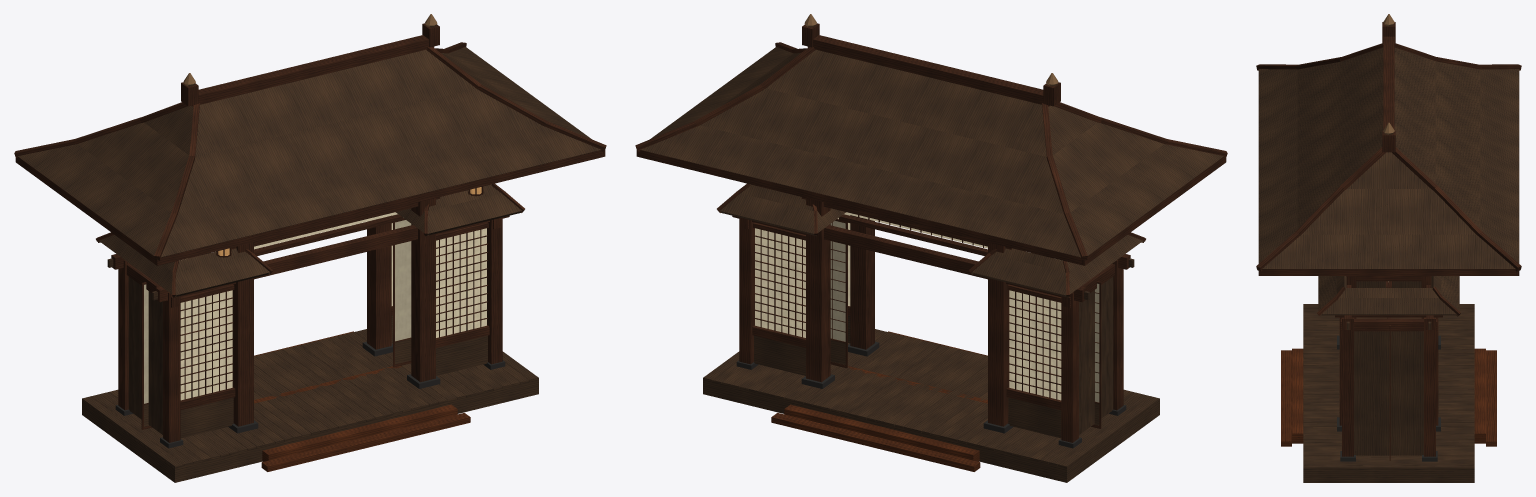
File: entrance_gateway.glb
3 views of the same model, side by side, from view 1: azimuth 30°, elevation 25°; view 2: azimuth 150°, elevation 25°; view 3: azimuth 270°, elevation 25° (orthographic). The views are drawn at different scales.
Visible parts, largest first — view 1: IC01_EntranceGateway__Structure, IC01_EntranceGateway__Door_R, IC01_EntranceGateway__Door_L; view 2: IC01_EntranceGateway__Structure, IC01_EntranceGateway__Door_R, IC01_EntranceGateway__Door_L; view 3: IC01_EntranceGateway__Structure.
Boxes of the visible parts, x1,y1,x2,y2 form: IC01_EntranceGateway__Structure: (14,14,606,482); IC01_EntranceGateway__Door_R: (393,218,411,367); IC01_EntranceGateway__Door_L: (141,282,151,429); IC01_EntranceGateway__Structure: (635,14,1227,482); IC01_EntranceGateway__Door_R: (830,219,847,368); IC01_EntranceGateway__Door_L: (1091,281,1101,428); IC01_EntranceGateway__Structure: (1256,14,1521,482).
Bounding box in the file's own units: 12.93 × 9.85 × 7.13.
Materials: 8 (6 with a texture image).
